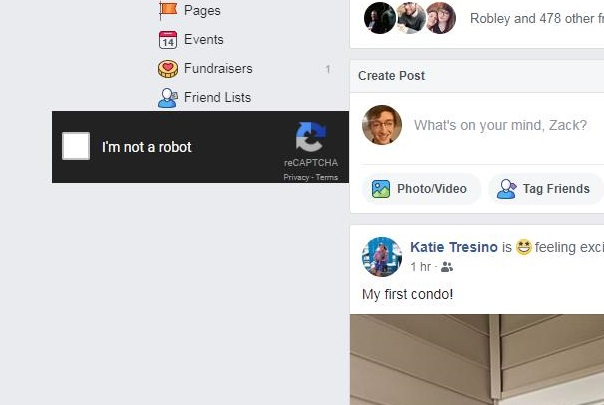captcha: (61, 131, 193, 161)
